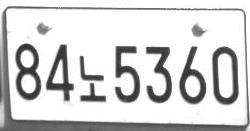0: (211, 45, 238, 105)
3: (145, 46, 172, 103)
4: (46, 44, 74, 101)
5: (115, 45, 140, 103)
6: (178, 46, 206, 104)
8: (14, 42, 42, 100)
노: (78, 56, 106, 101)
